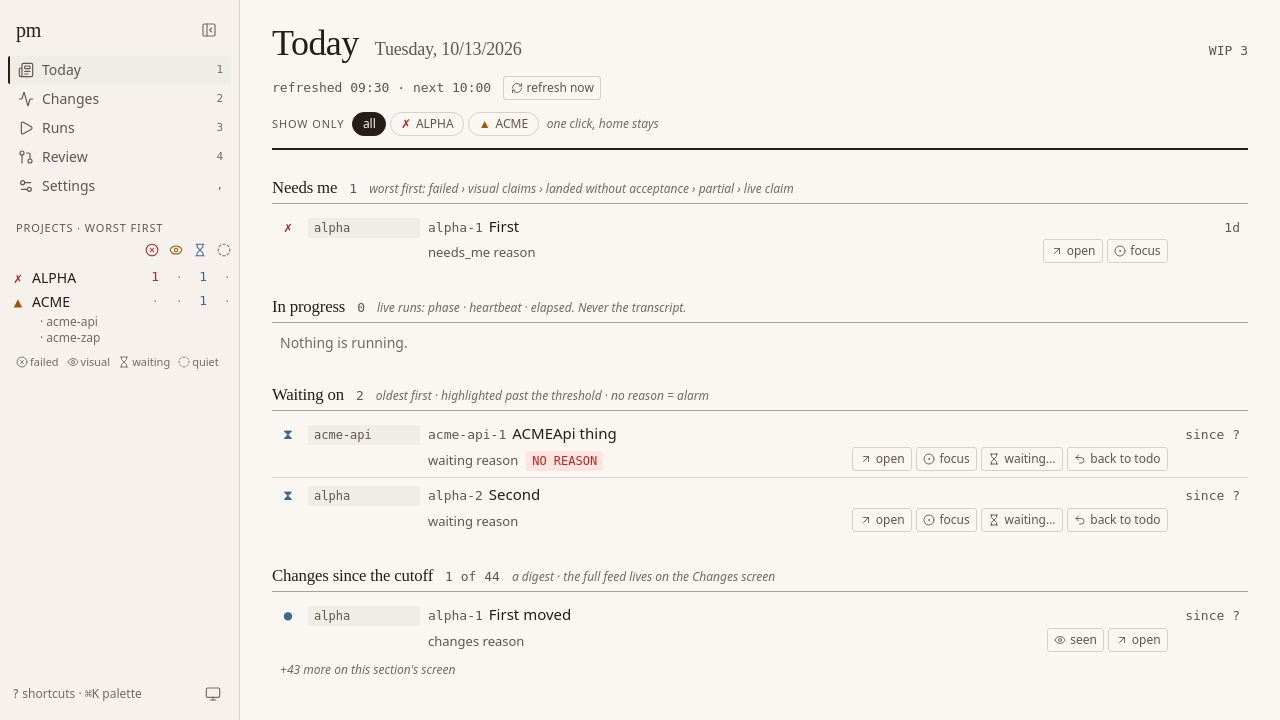
mutations go through the dialog › t on the selected row asks too, and Enter posts focus/toggle with the client header
Expected: the element "Needs me" is shown, [272,178,1248,269]
Type keys "j"
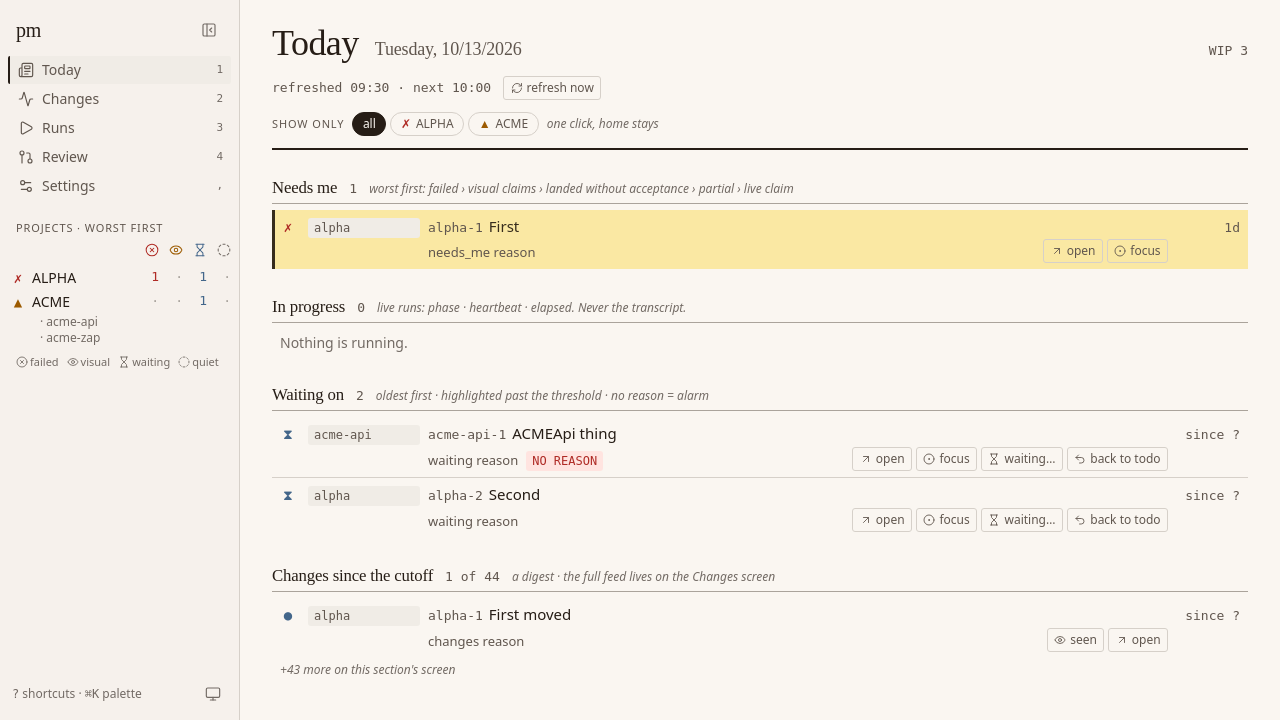
Type keys "t"
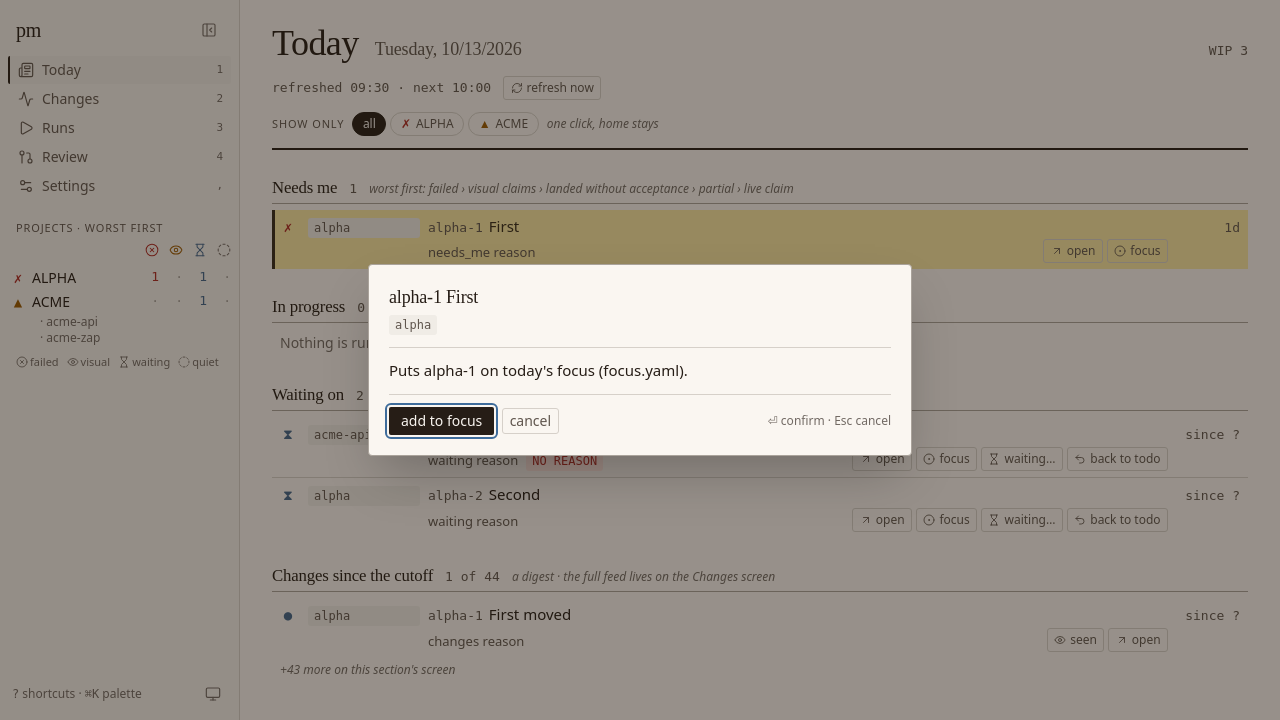
Click the button "add to focus". click: {"x": 442, "y": 421}
box: [389,407,494,435]
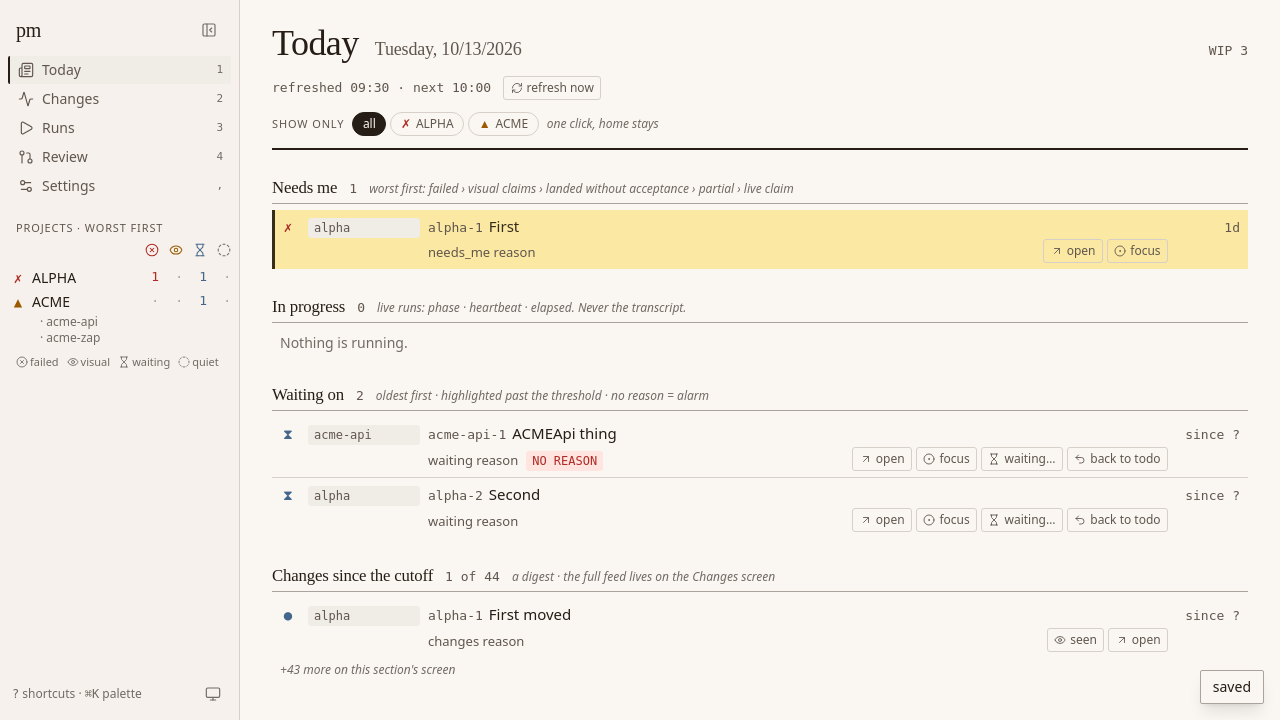
Now the message reads "saved", box [1213,677,1251,696]
